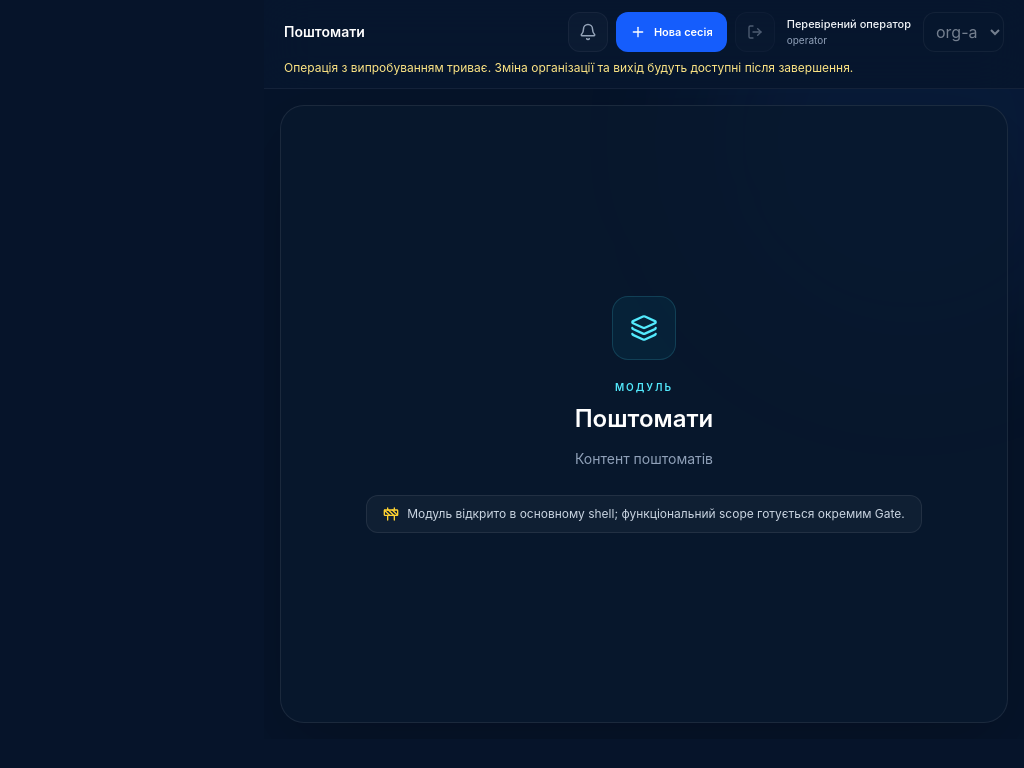
Test: keeps a pending mutation locked after Sessions is replaced by the Lockers route
Expected: the button named "Вийти з NEXOLAB" is disabled, [735, 12, 775, 52]
Select "org-b" in the dropdown named "Організація". click: (964, 32)
box: [923, 12, 1004, 52]
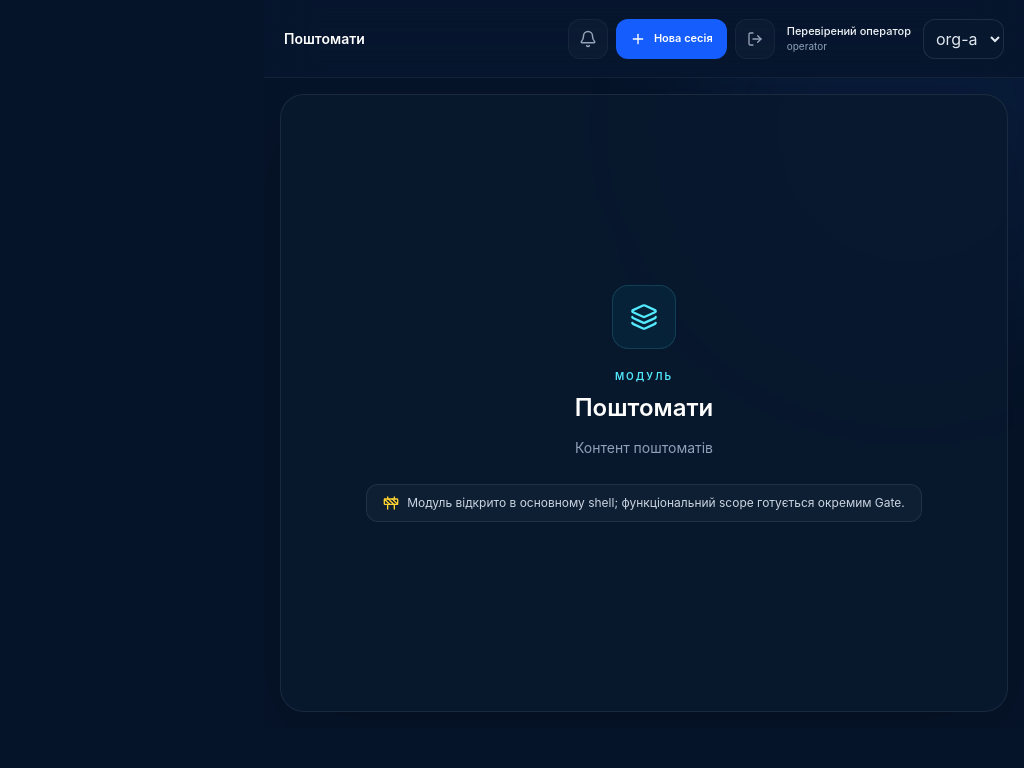
Result: the dropdown named "Організація" is enabled at [923, 18, 1004, 58]
